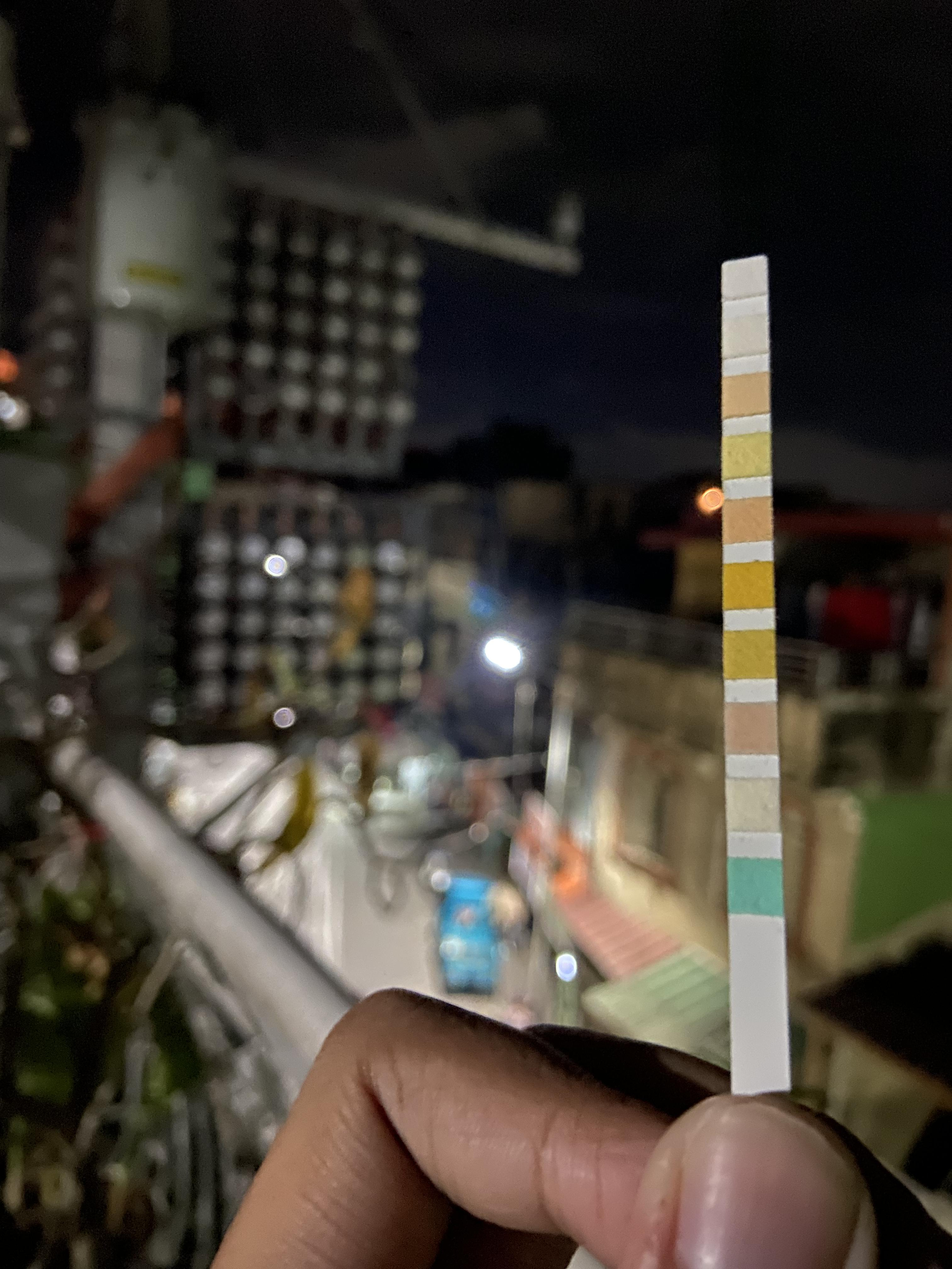Bilirubin: (726, 781, 777, 832)
Blood: (724, 564, 774, 608)
Glucose: (729, 858, 781, 915)
Ketone: (726, 705, 777, 754)
Leukocytes: (723, 263, 767, 294)
Nitrite: (724, 319, 768, 352)
Protein: (723, 437, 771, 475)
SpGravity: (725, 632, 774, 677)
Urobilinogen: (724, 378, 768, 411)
pH: (725, 501, 771, 540)
strip: (722, 255, 791, 1087)
